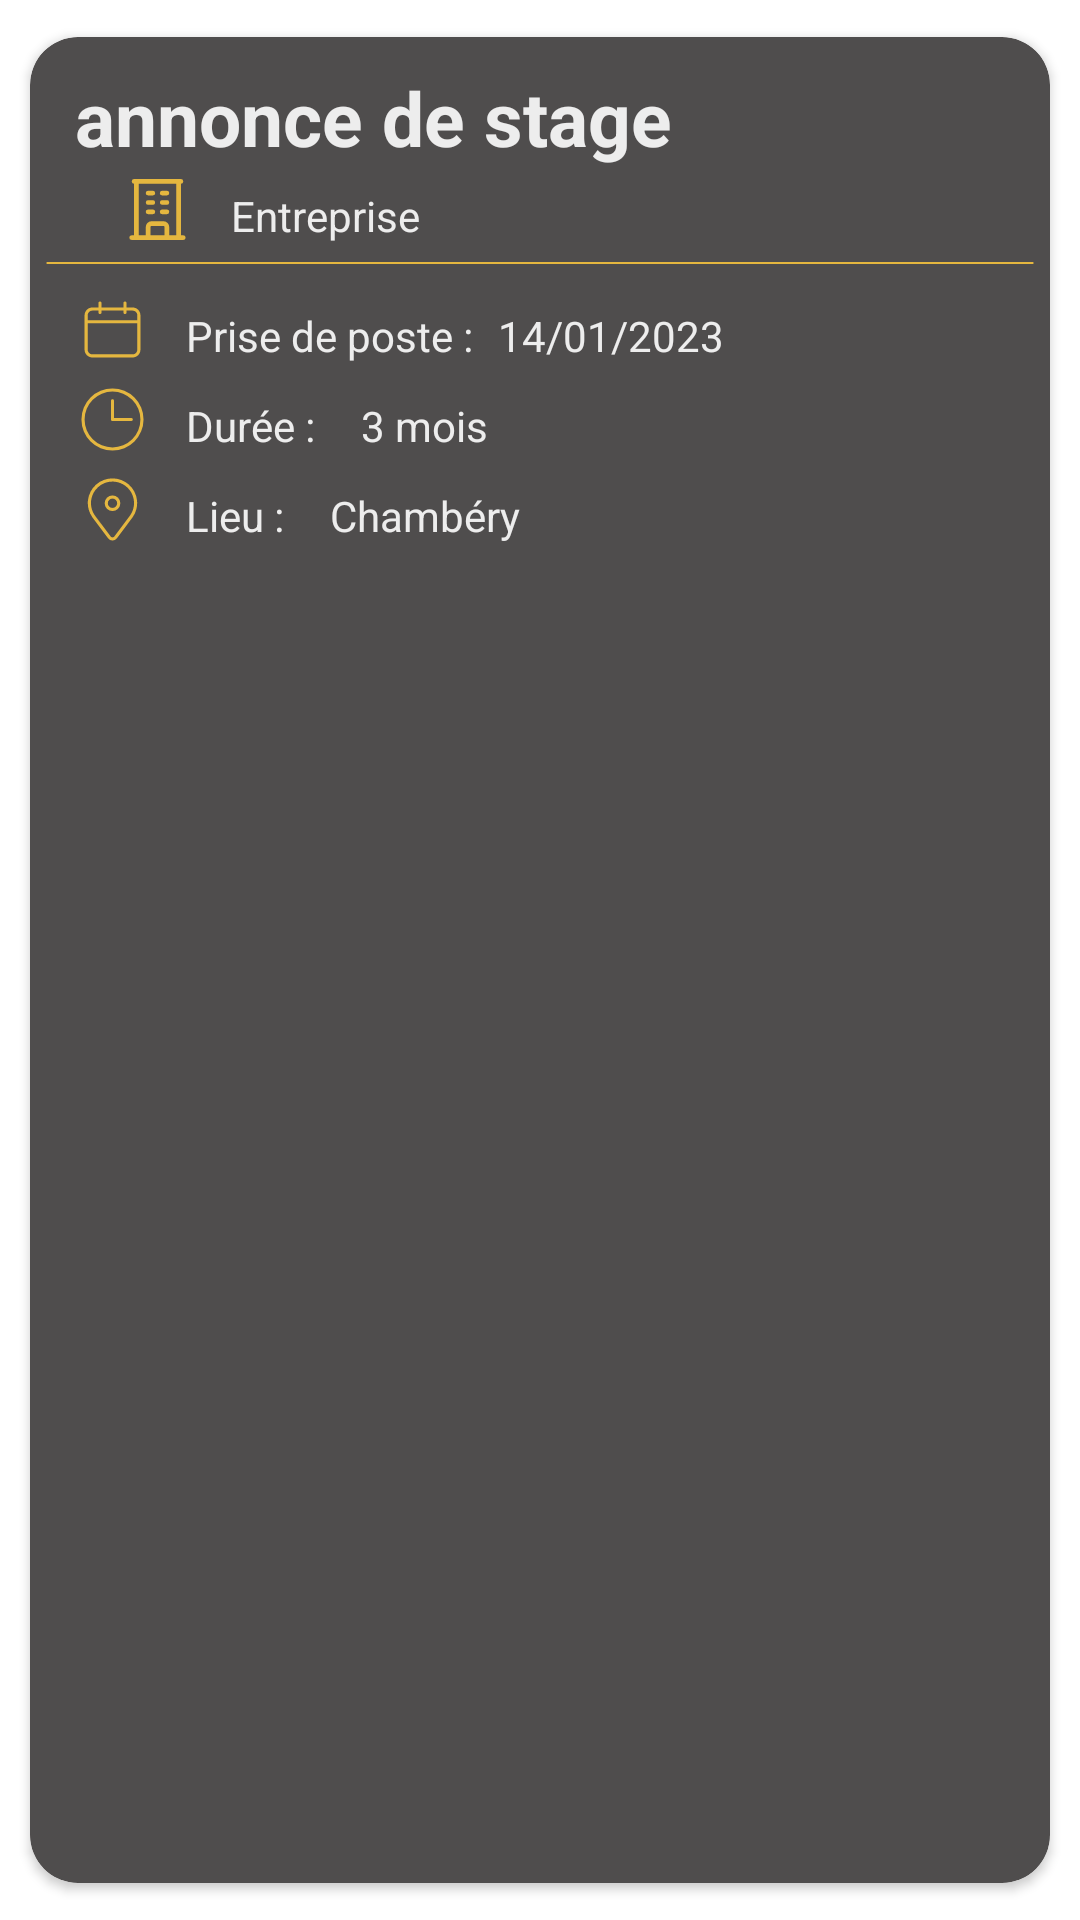

Point at icon controls on the screen. Image size 1080w x 1920h, points as (x,y).
building office: (157,209)
calendar: (112,329)
clock: (112,419)
location on: (112,509)
